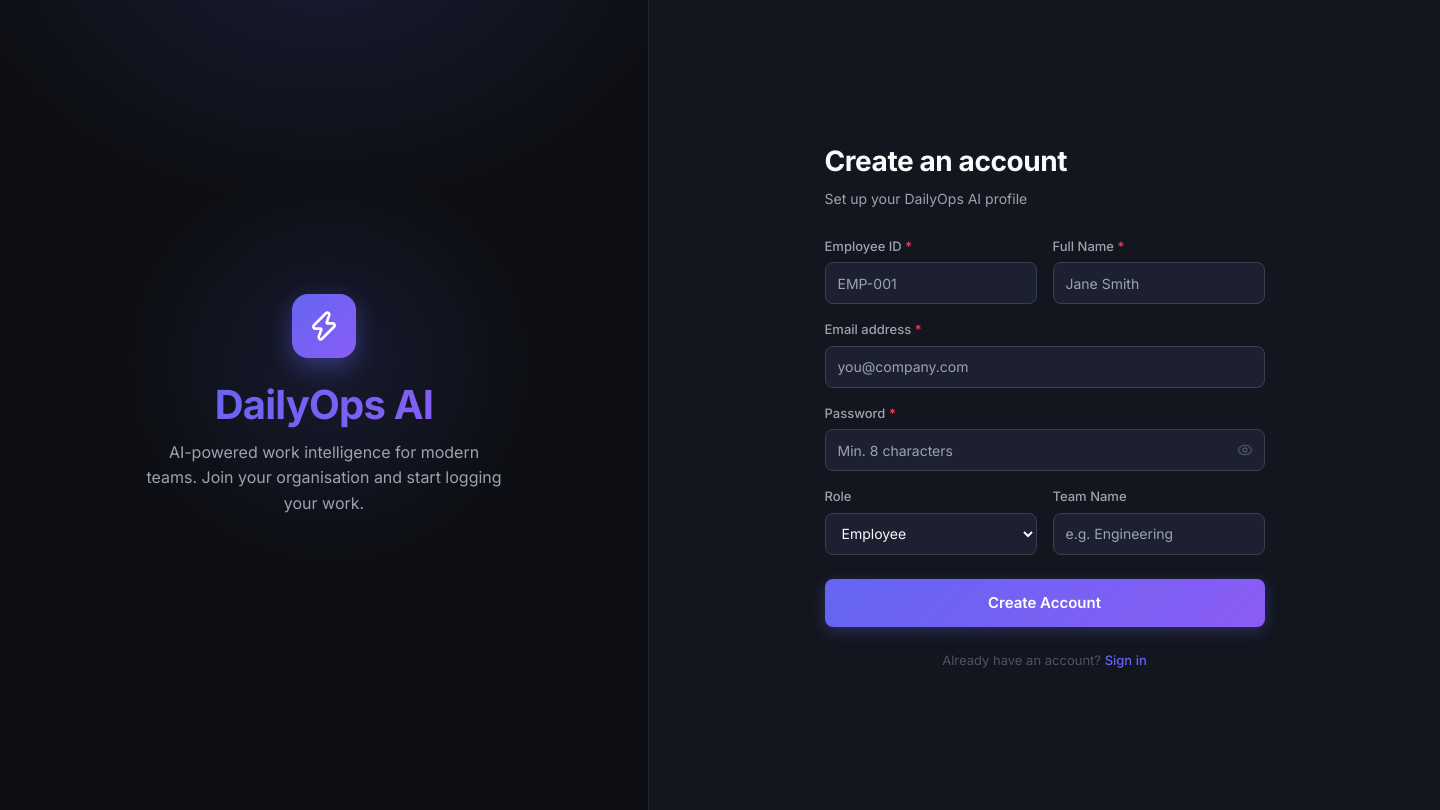
Test case: RegisterPage — validation › shows error when submitting with empty Employee ID
Step 1. Click the button "Create Account" → click(1044, 603), box x1=824 y1=579 x2=1264 y2=627
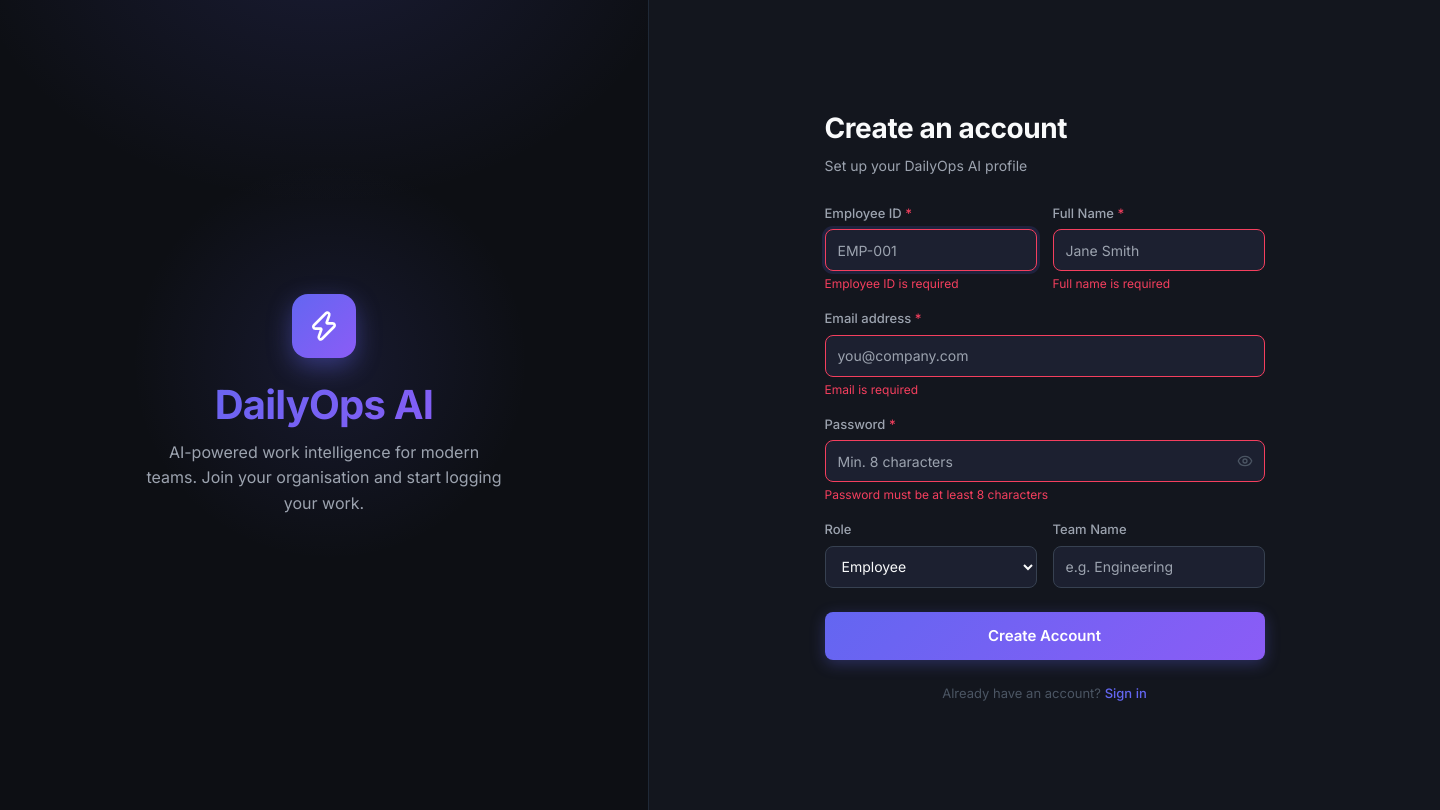
Expected: the text "Employee ID is required" is shown, x1=824 y1=276 x2=958 y2=291
